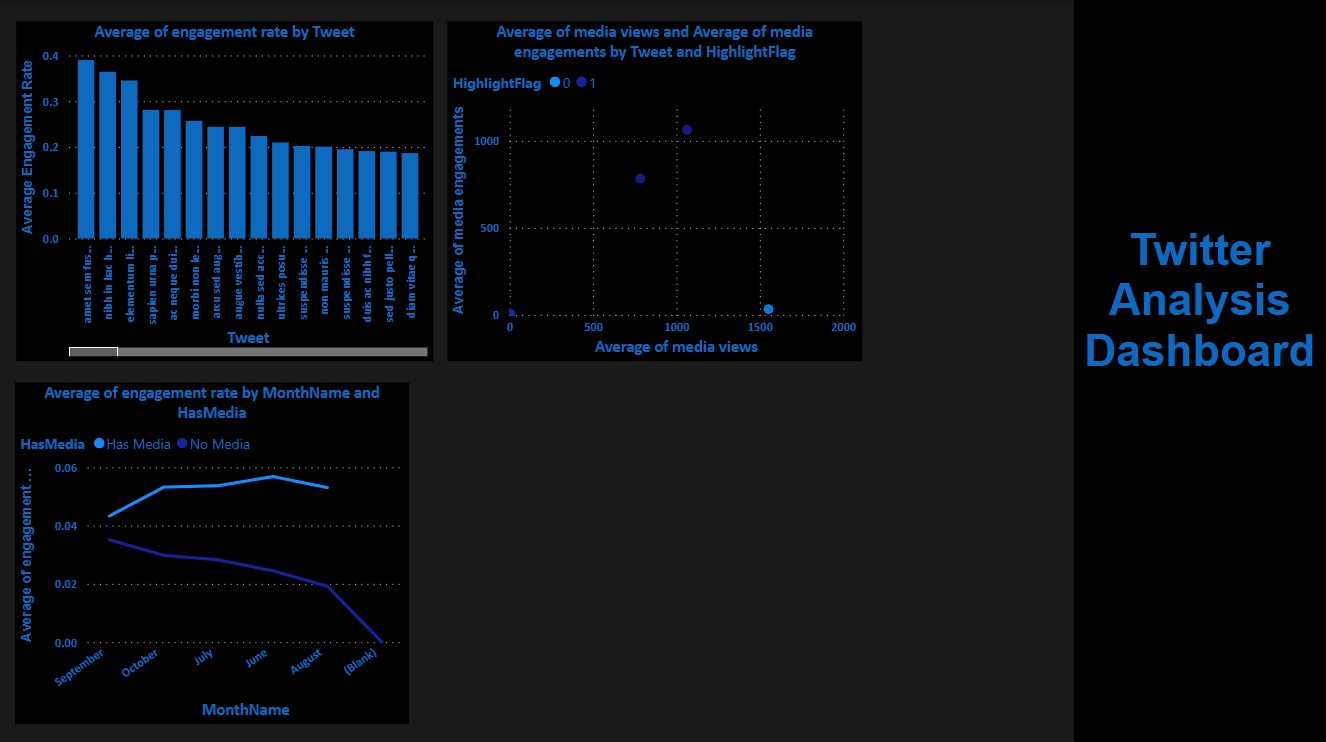

The page's visual inventory and layout, read from the dashboard file:
{"tool":"powerbi","page":{"name":"Tasks","canvas":[1280,720],"ordinal":1},"visuals":[{"type":"columnChart","fields":{"Y":["Avg(SocialMedia (1).engagement rate)"],"Category":["SocialMedia (1).Tweet"]},"box":[15.1,20.6,402.1,328],"z":0},{"type":"slicer","fields":{"Values":["SocialMedia (1).Month"]},"box":[1068.5,408.8,178.5,80.8],"z":1},{"type":"textbox","box":[1036,0,243.6,720],"z":2},{"type":"scatterChart","fields":{"X":["Avg(SocialMedia (1).media views)"],"Y":["Avg(SocialMedia (1).media engagements)"],"Category":["SocialMedia (1).Tweet"],"Series":["SocialMedia (1).HighlightFlag"]},"box":[432.1,21,400,328.4],"z":3},{"type":"lineChart","fields":{"Category":["SocialMedia (1).MonthName"],"Y":["Avg(SocialMedia (1).engagement rate)"],"Series":["SocialMedia (1).HasMedia"]},"box":[14.8,369.1,380.2,329.6],"z":4}]}

Visuals, with their boxes in screenshot pixels (x1, y1, x2, y2), scaled from the page's 1280x720 canvas onto the 1326x742 screenshot:
columnChart - Avg(SocialMedia (1).engagement rate) x SocialMedia (1).Tweet: box=[16, 21, 432, 359]
slicer - SocialMedia (1).Month: box=[1107, 421, 1292, 505]
textbox: box=[1073, 0, 1325, 741]
scatterChart - Avg(SocialMedia (1).media views) x Avg(SocialMedia (1).media engagements): box=[448, 22, 862, 360]
lineChart - SocialMedia (1).MonthName x Avg(SocialMedia (1).engagement rate): box=[15, 380, 409, 720]
